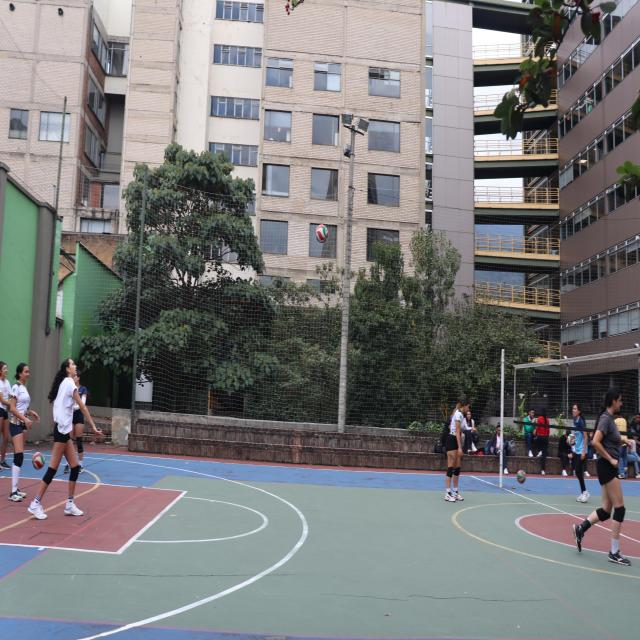volleyball: (32, 451, 45, 470), (316, 224, 328, 243), (517, 469, 526, 484), (567, 434, 576, 446)
